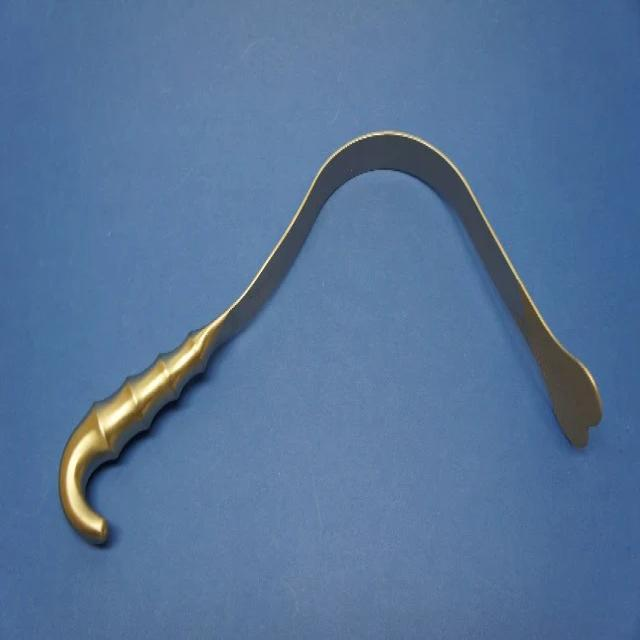Hrrington retractor: (55, 117, 608, 550)
